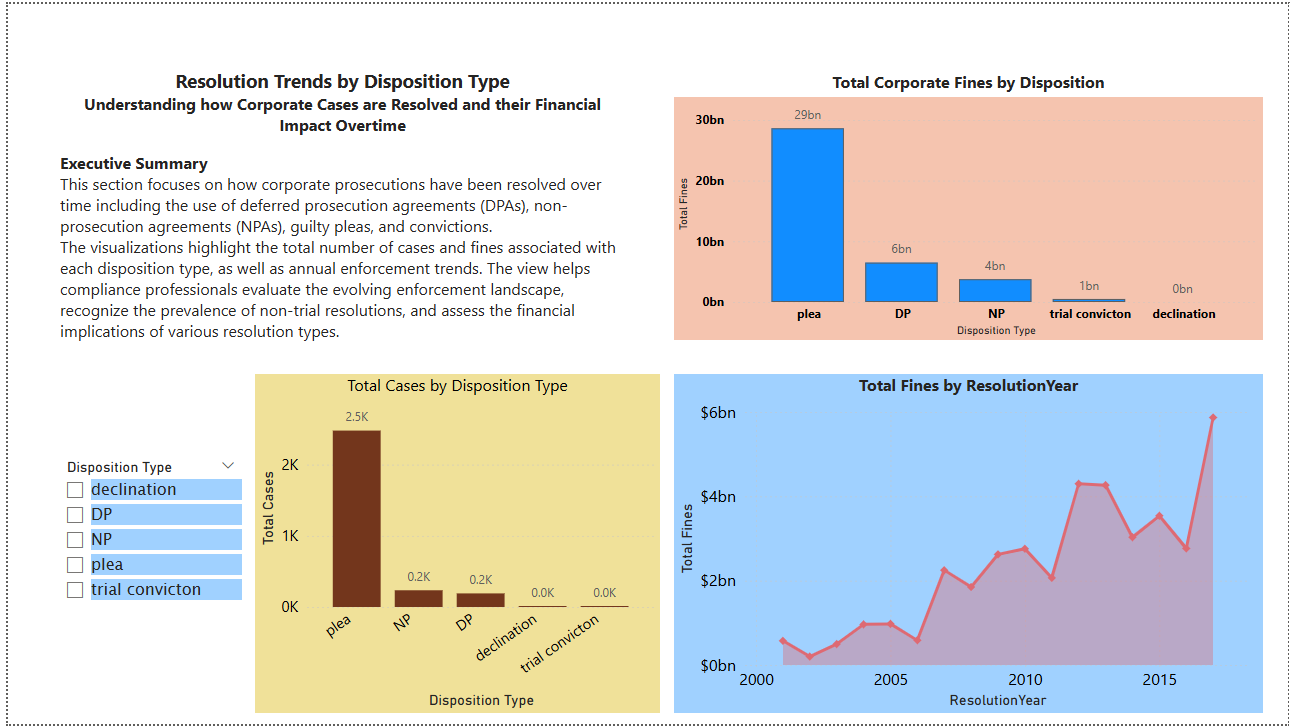

What the dashboard file says about the page in this screenshot:
{"tool":"powerbi","page":{"name":"Page 2: Resolution Trends","canvas":[1280,720],"ordinal":1},"visuals":[{"type":"clusteredColumnChart","title":"Total Corporate Fines by Disposition","fields":{"Category":["cpr-data.DISPOSITION_TYPE"],"Y":["cpr-data.Total Fines"]},"box":[666.3,67.1,588.4,268.4],"z":0},{"type":"textbox","box":[46.7,59.3,575.8,284],"z":1000},{"type":"clusteredColumnChart","fields":{"Category":["cpr-data.DISPOSITION_TYPE"],"Y":["cpr-data.Total Cases"]},"box":[247.1,369.6,404.6,339.5],"z":2000},{"type":"slicer","fields":{"Values":["cpr-data.DISPOSITION_TYPE"]},"box":[46.7,451.3,191.6,166.3],"z":3000},{"type":"lineChart","fields":{"Category":["cpr-data.ResolutionYear"],"Y":["cpr-data.Total Fines"]},"box":[666.3,369.6,588.4,339.5],"z":4000}]}

Visuals, with their boxes in screenshot pixels (x1, y1, x2, y2), scaled from the page's 1280x720 canvas onto the 1294x727 screenshot:
"Total Corporate Fines by Disposition" clusteredColumnChart: <region>674, 68, 1268, 339</region>
textbox: <region>47, 60, 629, 347</region>
clusteredColumnChart - cpr-data.DISPOSITION_TYPE x cpr-data.Total Cases: <region>250, 373, 659, 716</region>
slicer - cpr-data.DISPOSITION_TYPE: <region>47, 456, 241, 624</region>
lineChart - cpr-data.ResolutionYear x cpr-data.Total Fines: <region>674, 373, 1268, 716</region>
